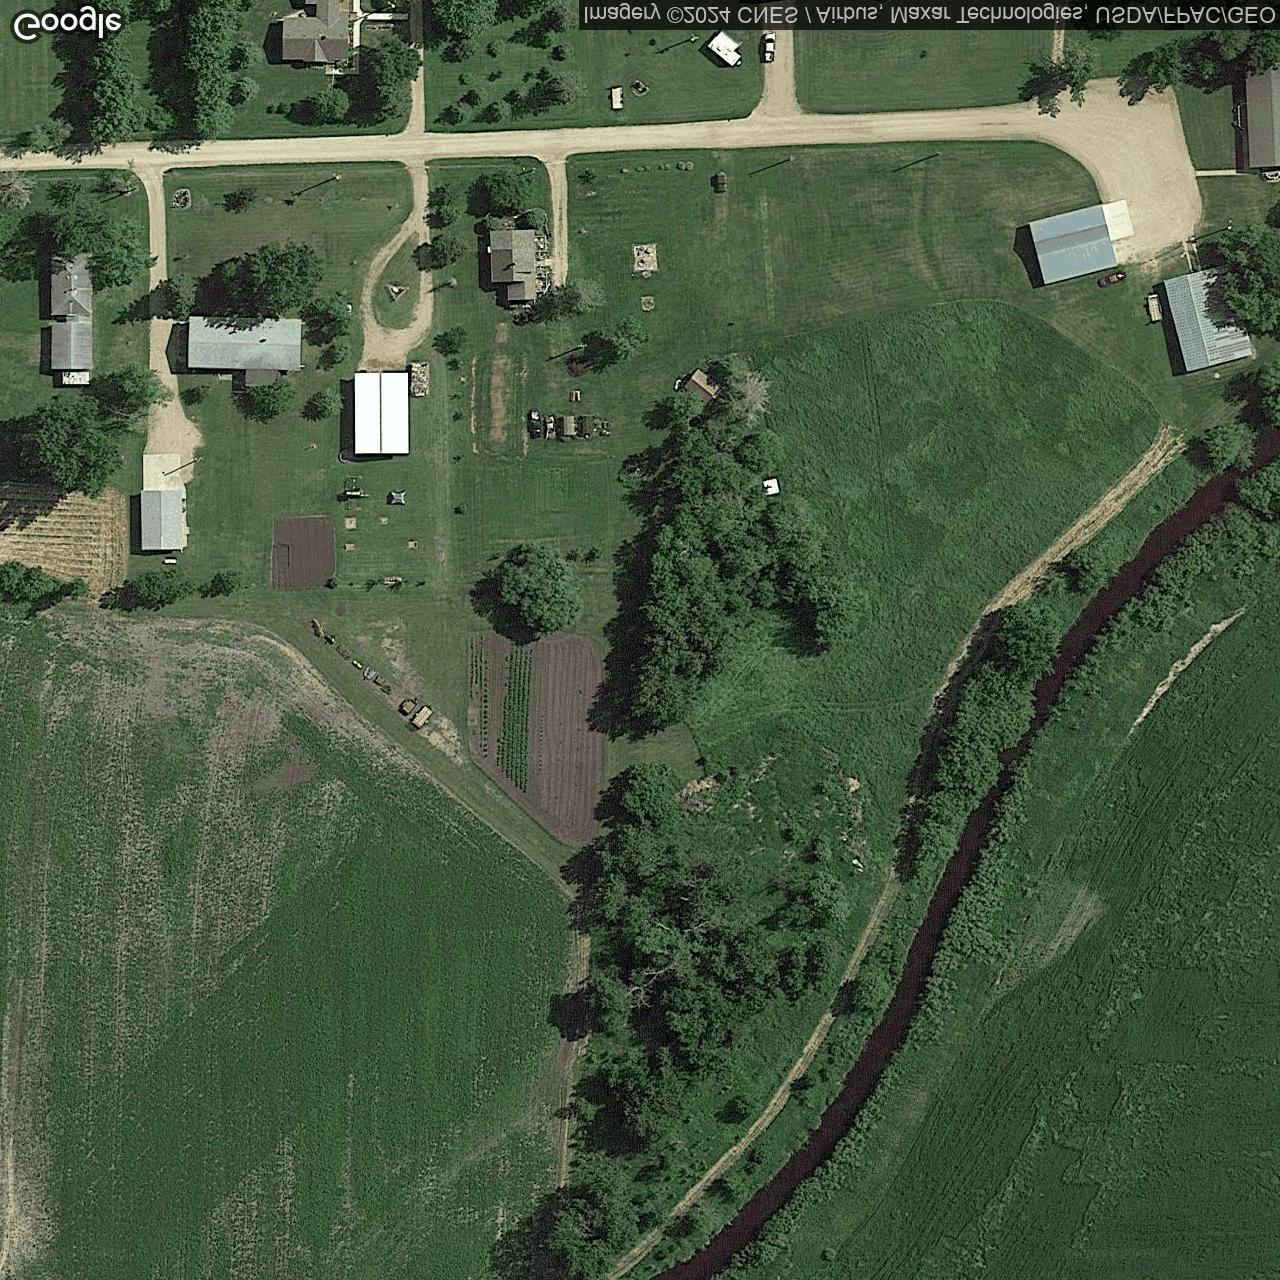Garage: (1164, 261, 1253, 370), (1029, 204, 1118, 285), (189, 316, 301, 369), (353, 372, 411, 454), (139, 489, 182, 550)
House: (49, 252, 94, 369), (282, 0, 350, 61), (1247, 67, 1280, 166), (490, 230, 536, 300)
Propane: (672, 377, 682, 392), (345, 491, 361, 497), (162, 559, 177, 565)
